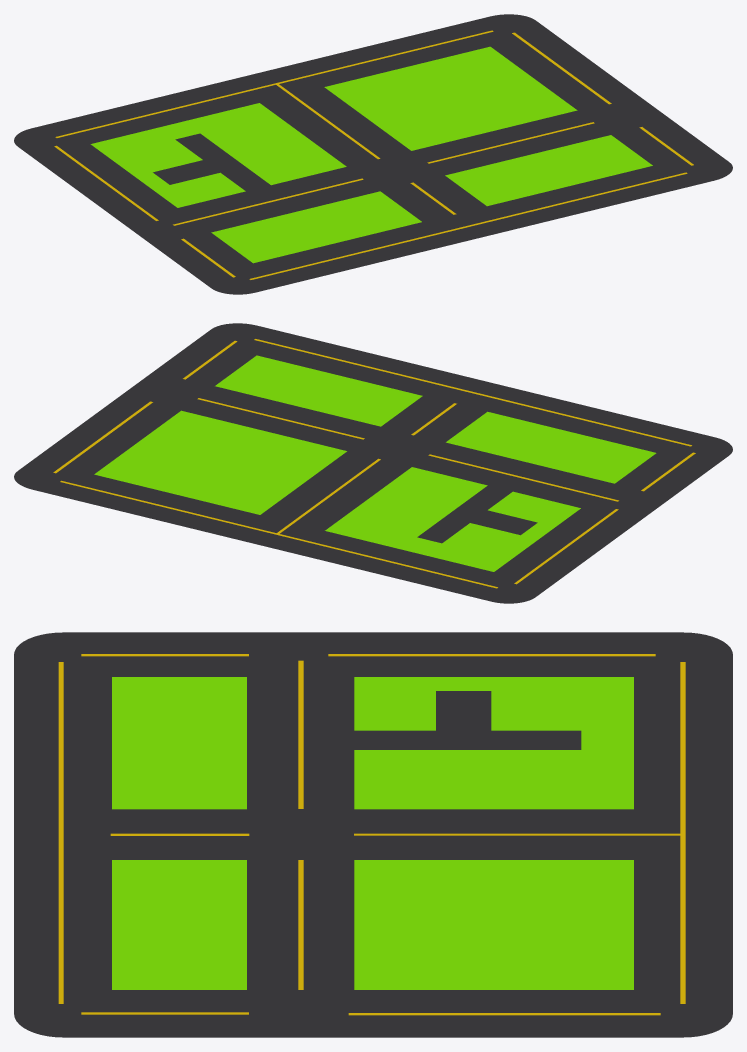
The model's file is road.gltf.
3 views of the same model, one above another, from view 1: azimuth 30°, elevation 25°; view 2: azimuth 150°, elevation 25°; view 3: azimuth 270°, elevation 25° (orthographic). The views are drawn at different scales.
Parts seen in each view (by area): view 1: road.002, Plane.002, yello_line_part.006, yello_line_part.005; view 2: road.002, Plane.002, yello_line_part.005, yello_line_part.006; view 3: road.002, Plane.002, yello_line_part.005, yello_line_part.006, yello_line_part.007, yello_line_part.001, yello_line_part.008, yello_line_part.004, yello_line_part.
Boxes of the visible parts, bbox=[...] form: road.002: bbox=[14, 14, 732, 294]; Plane.002: bbox=[90, 46, 652, 263]; yello_line_part.006: bbox=[249, 172, 687, 279]; yello_line_part.005: bbox=[55, 30, 493, 137]; road.002: bbox=[14, 323, 732, 603]; Plane.002: bbox=[94, 355, 656, 571]; yello_line_part.005: bbox=[60, 480, 497, 588]; yello_line_part.006: bbox=[254, 339, 691, 446]; road.002: bbox=[14, 632, 732, 1037]; Plane.002: bbox=[112, 677, 633, 989]; yello_line_part.005: bbox=[680, 662, 685, 1003]; yello_line_part.006: bbox=[58, 662, 63, 1003]; yello_line_part.007: bbox=[328, 654, 655, 656]; yello_line_part.001: bbox=[354, 833, 684, 835]; yello_line_part.008: bbox=[348, 1013, 660, 1015]; yello_line_part.004: bbox=[298, 660, 303, 808]; yello_line_part: bbox=[298, 860, 303, 989].
Size of the model in its own units: 6759 by 0.0187 by 5071.
